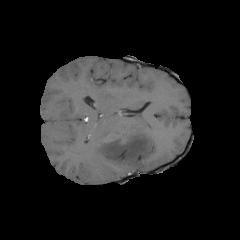glioma: (97, 128, 153, 171)
